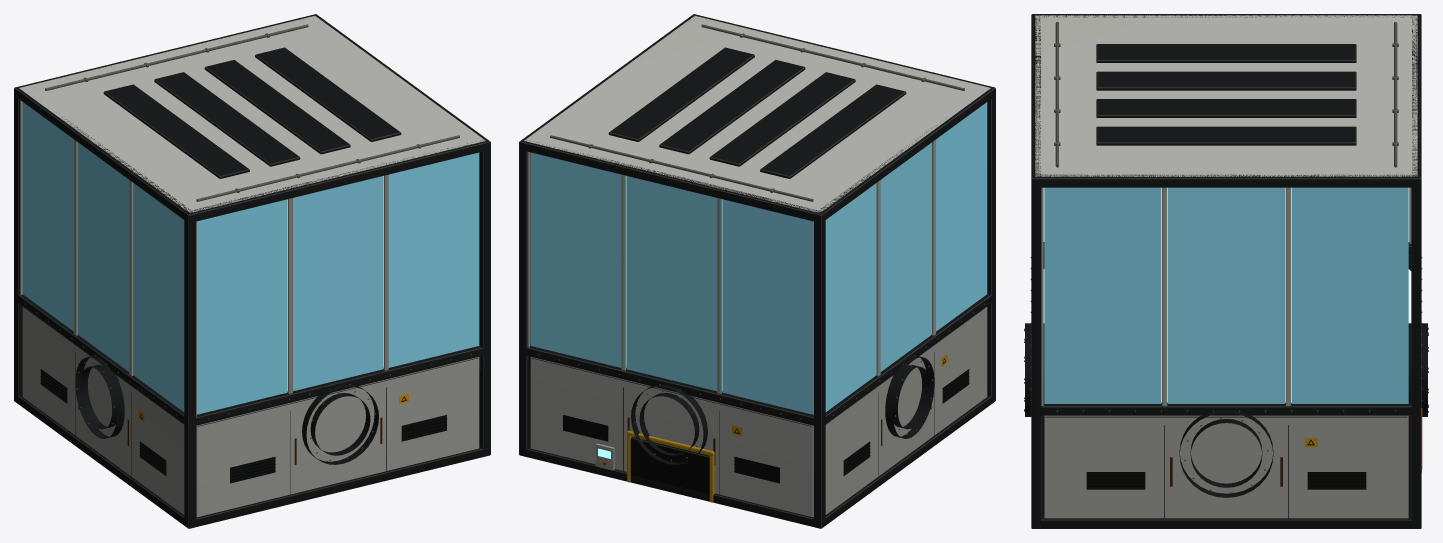
File: concept_assembly_chamber.glb
3 renders of one model, left to right at view 1: azimuth 30°, elevation 25°; view 2: azimuth 150°, elevation 25°; view 3: azimuth 270°, elevation 25°, orthographic. The views are drawn at different scales.
Visible parts, largest first — view 1: Frame, Glass; view 2: Frame, Glass; view 3: Frame, Glass, Field.
Part boxes in pixels (left/top/right/bottom): Frame: left=14, top=14, right=490, bottom=528; Glass: left=22, top=102, right=479, bottom=414; Frame: left=519, top=14, right=995, bottom=528; Glass: left=530, top=102, right=987, bottom=414; Frame: left=1024, top=14, right=1428, bottom=528; Glass: left=1044, top=187, right=1408, bottom=403; Field: left=1161, top=187, right=1291, bottom=402.
Size of the model in its own units: 6.22 by 6 by 6.22.
